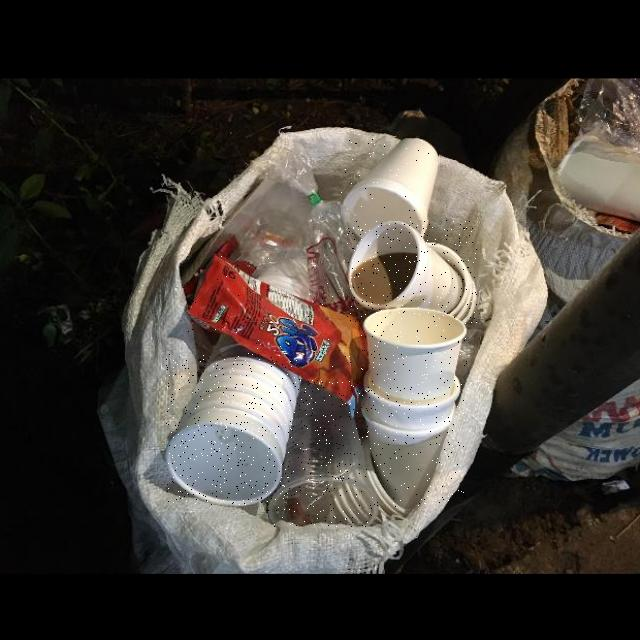plastic: (268, 379, 375, 526)
styrofoam: (361, 306, 467, 508), (166, 354, 301, 504), (347, 220, 477, 325), (342, 137, 439, 237)
wrapper: (188, 255, 369, 416)
